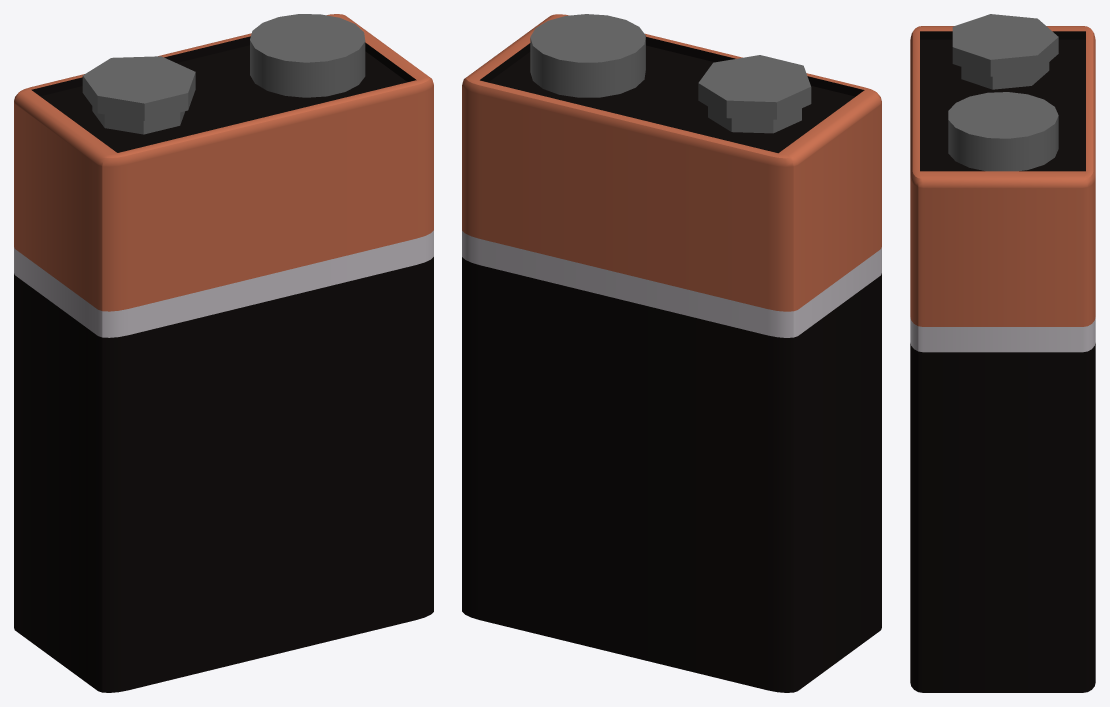
The model's file is Battery1.fbx.
3 renders of one model, left to right at view 1: azimuth 30°, elevation 25°; view 2: azimuth 150°, elevation 25°; view 3: azimuth 270°, elevation 25°, orthographic. The views are drawn at different scales.
Parts seen in each view (by area): view 1: Battery; view 2: Battery; view 3: Battery.
Boxes of the visible parts, x1,y1,x2,y2 form: Battery: [14, 14, 433, 692]; Battery: [462, 14, 881, 692]; Battery: [910, 14, 1095, 692].
Size of the model in its own units: 50 by 100 by 160.
